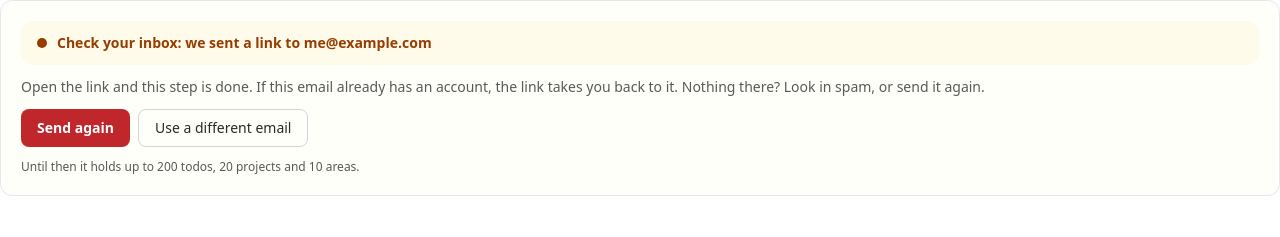
the email in Settings › sends the link again for the same address, or says to wait
The width and height of the screenshot is (1280, 237).
Click the button "Send again" at (75, 128), box 21,109 -> 130,147
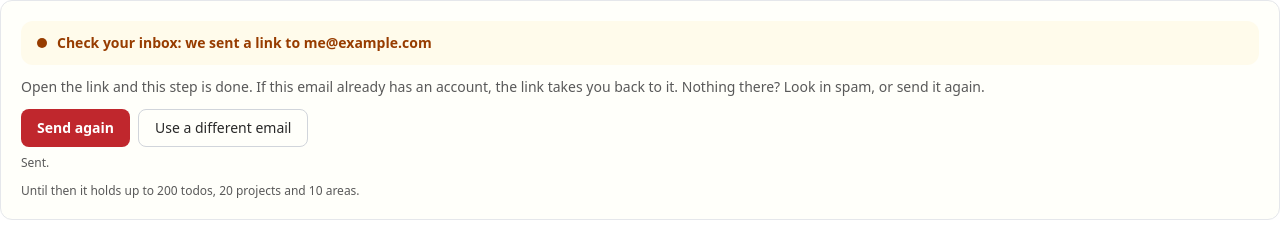
Click the button "Send again" at (75, 128), box 21,109 -> 130,147
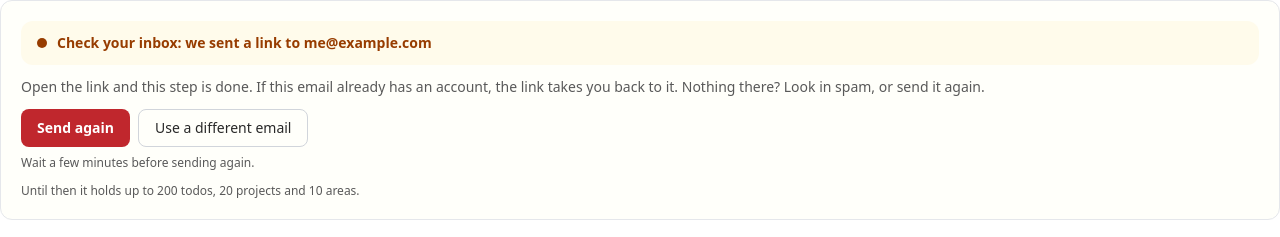
Now the text "Wait a few minutes before sending again." is shown, box 21,154 -> 254,171
